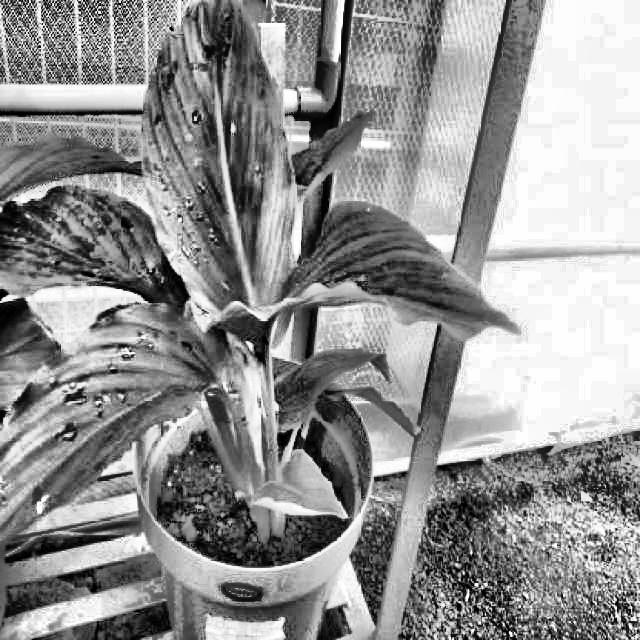plants: (0, 0, 529, 554)
